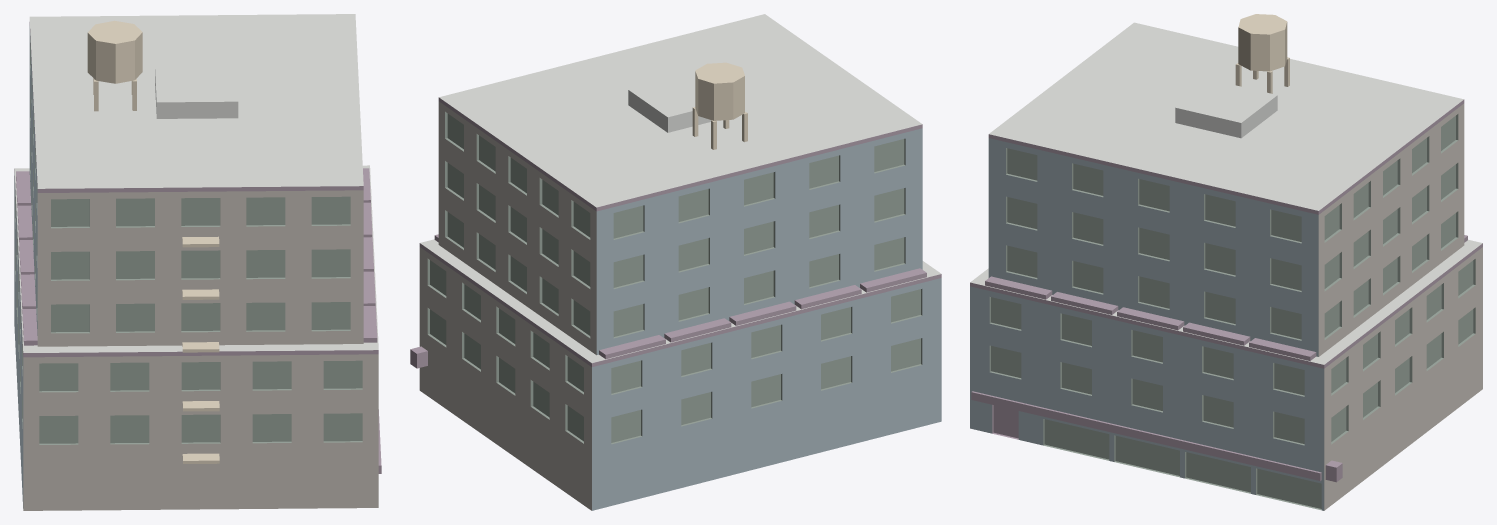
Rendered from doitt-147902__lod_0.glb.
3 renders of one model, left to right at view 1: azimuth 30°, elevation 25°; view 2: azimuth 150°, elevation 25°; view 3: azimuth 270°, elevation 25°, orthographic. The views are drawn at different scales.
Size of the model in its own units: 34.47 by 27.86 by 36.31.
